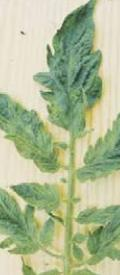Tomato leaf mosaic virus: (43, 0, 106, 138), (0, 183, 56, 255), (75, 93, 120, 181), (80, 203, 120, 268), (11, 181, 65, 211)
